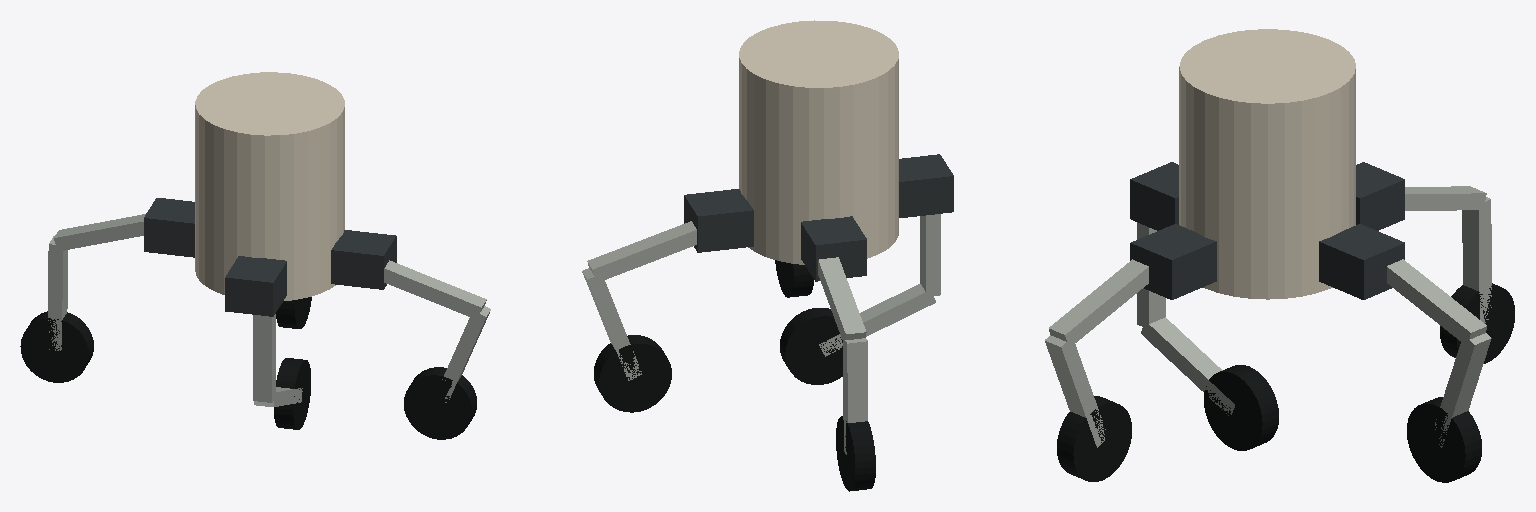
The robot description file, URDF, robot "mist_v2_engineering_candidate":
<?xml version='1.0' encoding='utf-8'?>
<robot name="mist_v2_engineering_candidate">
  <link name="base_link">
    <inertial>
      <origin xyz="0.003388389241 1.493361693e-06 0.03041384112" />
      <mass value="2.4492070836026665" />
      <inertia ixx="0.02125669905013628" iyy="0.019450610970687173" izz="0.017499715407569134" ixy="-3.087767463132525e-07" ixz="-0.0013028481915023627" iyz="2.742202012158825e-08" />
    </inertial>
    <visual>
      <origin xyz="0 0 0.075" rpy="0 0 0" />
      <geometry>
        <cylinder radius="0.09" length="0.22" />
      </geometry>
      <material name="base_link_material">
        <color rgba="0.83 0.8 0.73 1" />
      </material>
    </visual>
    <collision>
      <origin xyz="0 0 0.075" rpy="0 0 0" />
      <geometry>
        <cylinder radius="0.09" length="0.22" />
      </geometry>
    </collision>
  </link>
  <link name="FL_yaw">
    <inertial>
      <origin xyz="0.05037779371 -0.02909465782 0.003047798041" />
      <mass value="0.18856835128024615" />
      <inertia ixx="0.00017023544498280188" iyy="0.0002291867997440033" izz="0.00032701715050603735" ixy="0.00012541178122409732" ixz="2.3160330010817645e-05" iyz="-2.5777155508407435e-05" />
    </inertial>
    <visual>
      <origin xyz="0.0175 0.015 0" rpy="0 0 0" />
      <geometry>
        <box size="0.065 0.06 0.045" />
      </geometry>
      <material name="FL_yaw_material">
        <color rgba="0.25 0.27 0.28 1" />
      </material>
    </visual>
    <collision>
      <origin xyz="0.0175 0.015 0" rpy="0 0 0" />
      <geometry>
        <box size="0.065 0.06 0.045" />
      </geometry>
    </collision>
  </link>
  <joint name="FL_q1_yaw" type="revolute">
    <parent link="base_link" />
    <child link="FL_yaw" />
    <origin xyz="0.07283199846 0.07283199846 0" rpy="0 0 0.7853981634" />
    <axis xyz="0 0 1" />
    <limit lower="-1.7453292519943295" upper="1.0107470336924367" effort="20" velocity="20" />
    <dynamics damping="0" friction="0" />
  </joint>
  <link name="FL_femur">
    <inertial>
      <origin xyz="3.469446952e-17 0.02755742571 -0.04168769318" />
      <mass value="0.569793358910382" />
      <inertia ixx="0.0017104277044611873" iyy="0.001202420624449608" izz="0.0007070387454594916" ixy="1.3534319031886612e-20" ixz="2.309500200591432e-19" iyz="-1.3585098421913724e-05" />
    </inertial>
    <visual>
      <origin xyz="0 0 -0.06975" rpy="0 0 0" />
      <geometry>
        <box size="0.018 0.024 0.1395" />
      </geometry>
      <material name="FL_femur_material">
        <color rgba="0.68 0.7 0.67 1" />
      </material>
    </visual>
    <collision>
      <origin xyz="0 0 -0.06975" rpy="0 0 0" />
      <geometry>
        <box size="0.018 0.024 0.1395" />
      </geometry>
    </collision>
  </link>
  <joint name="FL_q2_hip" type="revolute">
    <parent link="FL_yaw" />
    <child link="FL_femur" />
    <origin xyz="0.035 0.03 0" rpy="0 0 0" />
    <axis xyz="0 -1 0" />
    <limit lower="0.3992500458411693" upper="2.181661564992912" effort="20" velocity="20" />
    <dynamics damping="0" friction="0" />
  </joint>
  <link name="FL_tibia">
    <inertial>
      <origin xyz="5.11871788e-10 0.01826851161 -0.06290189864" />
      <mass value="0.4960406883090802" />
      <inertia ixx="0.0012527973451017522" iyy="0.001093121767756599" izz="0.0002716584378050016" ixy="-1.961471203965535e-12" ixz="-4.709087884667719e-12" iyz="-5.045115996889297e-06" />
    </inertial>
    <visual>
      <origin xyz="0 0 -0.07" rpy="0 0 0" />
      <geometry>
        <box size="0.018 0.024 0.14" />
      </geometry>
      <material name="FL_tibia_material">
        <color rgba="0.68 0.7 0.67 1" />
      </material>
    </visual>
    <collision>
      <origin xyz="0 0 -0.07" rpy="0 0 0" />
      <geometry>
        <box size="0.018 0.024 0.14" />
      </geometry>
    </collision>
  </link>
  <joint name="FL_q3_knee" type="revolute">
    <parent link="FL_femur" />
    <child link="FL_tibia" />
    <origin xyz="0 0 -0.1395" rpy="0 0 0" />
    <axis xyz="0 -1 0" />
    <limit lower="-2.6179938779914944" upper="-0.656554653418662" effort="20" velocity="20" />
    <dynamics damping="0" friction="0" />
  </joint>
  <link name="FL_wheel">
    <inertial>
      <origin xyz="-3.752263715e-10 0.008234554553 2.471307574e-09" />
      <mass value="0.10731689053973788" />
      <inertia ixx="7.586045237460331e-05" iyy="9.10728819164123e-05" izz="7.586044613961116e-05" ixy="1.0194783467604003e-12" ixz="1.0128357823010377e-12" iyz="-6.710322416391488e-12" />
    </inertial>
    <visual>
      <origin xyz="0 0 0" rpy="1.570796327 0 0" />
      <geometry>
        <cylinder radius="0.0425" length="0.024" />
      </geometry>
      <material name="FL_wheel_material">
        <color rgba="0.12 0.13 0.13 1" />
      </material>
    </visual>
    <collision>
      <origin xyz="0 0 0" rpy="1.570796327 0 0" />
      <geometry>
        <cylinder radius="0.0425" length="0.024" />
      </geometry>
    </collision>
  </link>
  <joint name="FL_wheel_drive" type="continuous">
    <parent link="FL_tibia" />
    <child link="FL_wheel" />
    <origin xyz="0 0 -0.14" rpy="0 0 0" />
    <axis xyz="0 -1 0" />
    <dynamics damping="0" friction="0" />
  </joint>
  <link name="FR_yaw">
    <inertial>
      <origin xyz="0.05037779371 0.02909465782 0.003047798041" />
      <mass value="0.18856835128024615" />
      <inertia ixx="0.00017023544498280188" iyy="0.0002291867997440033" izz="0.00032701715050603735" ixy="-0.00012541178122409732" ixz="2.3160330010817645e-05" iyz="2.5777155508407435e-05" />
    </inertial>
    <visual>
      <origin xyz="0.0175 -0.015 0" rpy="0 0 0" />
      <geometry>
        <box size="0.065 0.06 0.045" />
      </geometry>
      <material name="FR_yaw_material">
        <color rgba="0.25 0.27 0.28 1" />
      </material>
    </visual>
    <collision>
      <origin xyz="0.0175 -0.015 0" rpy="0 0 0" />
      <geometry>
        <box size="0.065 0.06 0.045" />
      </geometry>
    </collision>
  </link>
  <joint name="FR_q1_yaw" type="revolute">
    <parent link="base_link" />
    <child link="FR_yaw" />
    <origin xyz="0.07283199846 -0.07283199846 0" rpy="0 0 -0.7853981634" />
    <axis xyz="0 0 1" />
    <limit lower="-0.7670117428405065" upper="1.7453292519943295" effort="20" velocity="20" />
    <dynamics damping="0" friction="0" />
  </joint>
  <link name="FR_femur">
    <inertial>
      <origin xyz="3.469446952e-17 -0.02755742571 -0.04168769318" />
      <mass value="0.569793358910382" />
      <inertia ixx="0.0017104277044611873" iyy="0.001202420624449608" izz="0.0007070387454594916" ixy="-1.3534319031886612e-20" ixz="2.309500200591432e-19" iyz="1.3585098421913724e-05" />
    </inertial>
    <visual>
      <origin xyz="0 0 -0.06975" rpy="0 0 0" />
      <geometry>
        <box size="0.018 0.024 0.1395" />
      </geometry>
      <material name="FR_femur_material">
        <color rgba="0.68 0.7 0.67 1" />
      </material>
    </visual>
    <collision>
      <origin xyz="0 0 -0.06975" rpy="0 0 0" />
      <geometry>
        <box size="0.018 0.024 0.1395" />
      </geometry>
    </collision>
  </link>
  <joint name="FR_q2_hip" type="revolute">
    <parent link="FR_yaw" />
    <child link="FR_femur" />
    <origin xyz="0.035 -0.03 0" rpy="0 0 0" />
    <axis xyz="0 -1 0" />
    <limit lower="0.36095190792944737" upper="2.181661564992912" effort="20" velocity="20" />
    <dynamics damping="0" friction="0" />
  </joint>
  <link name="FR_tibia">
    <inertial>
      <origin xyz="5.11871788e-10 -0.01826851161 -0.06290189864" />
      <mass value="0.4960406883090802" />
      <inertia ixx="0.0012527973451017522" iyy="0.001093121767756599" izz="0.0002716584378050016" ixy="1.961471203965535e-12" ixz="-4.709087884667719e-12" iyz="5.045115996889297e-06" />
    </inertial>
    <visual>
      <origin xyz="0 0 -0.07" rpy="0 0 0" />
      <geometry>
        <box size="0.018 0.024 0.14" />
      </geometry>
      <material name="FR_tibia_material">
        <color rgba="0.68 0.7 0.67 1" />
      </material>
    </visual>
    <collision>
      <origin xyz="0 0 -0.07" rpy="0 0 0" />
      <geometry>
        <box size="0.018 0.024 0.14" />
      </geometry>
    </collision>
  </link>
  <joint name="FR_q3_knee" type="revolute">
    <parent link="FR_femur" />
    <child link="FR_tibia" />
    <origin xyz="0 0 -0.1395" rpy="0 0 0" />
    <axis xyz="0 -1 0" />
    <limit lower="-2.6179938779914944" upper="-0.6817232474845311" effort="20" velocity="20" />
    <dynamics damping="0" friction="0" />
  </joint>
  <link name="FR_wheel">
    <inertial>
      <origin xyz="-3.752263715e-10 -0.008234554553 2.471307574e-09" />
      <mass value="0.10731689053973788" />
      <inertia ixx="7.586045237460331e-05" iyy="9.10728819164123e-05" izz="7.586044613961116e-05" ixy="-1.0194783467604003e-12" ixz="1.0128357823010377e-12" iyz="6.710322416391488e-12" />
    </inertial>
    <visual>
      <origin xyz="0 0 0" rpy="1.570796327 0 0" />
      <geometry>
        <cylinder radius="0.0425" length="0.024" />
      </geometry>
      <material name="FR_wheel_material">
        <color rgba="0.12 0.13 0.13 1" />
      </material>
    </visual>
    <collision>
      <origin xyz="0 0 0" rpy="1.570796327 0 0" />
      <geometry>
        <cylinder radius="0.0425" length="0.024" />
      </geometry>
    </collision>
  </link>
  <joint name="FR_wheel_drive" type="continuous">
    <parent link="FR_tibia" />
    <child link="FR_wheel" />
    <origin xyz="0 0 -0.14" rpy="0 0 0" />
    <axis xyz="0 -1 0" />
    <dynamics damping="0" friction="0" />
  </joint>
  <link name="RL_yaw">
    <inertial>
      <origin xyz="0.05037779371 0.02909465782 0.003047798041" />
      <mass value="0.18856835128024615" />
      <inertia ixx="0.00017023544498280188" iyy="0.0002291867997440033" izz="0.00032701715050603735" ixy="-0.00012541178122409732" ixz="2.3160330010817645e-05" iyz="2.5777155508407435e-05" />
    </inertial>
    <visual>
      <origin xyz="0.0175 -0.015 0" rpy="0 0 0" />
      <geometry>
        <box size="0.065 0.06 0.045" />
      </geometry>
      <material name="RL_yaw_material">
        <color rgba="0.25 0.27 0.28 1" />
      </material>
    </visual>
    <collision>
      <origin xyz="0.0175 -0.015 0" rpy="0 0 0" />
      <geometry>
        <box size="0.065 0.06 0.045" />
      </geometry>
    </collision>
  </link>
  <joint name="RL_q1_yaw" type="revolute">
    <parent link="base_link" />
    <child link="RL_yaw" />
    <origin xyz="-0.07283199846 0.07283199846 0" rpy="0 0 2.35619449" />
    <axis xyz="0 0 1" />
    <limit lower="-1.0145255701012619" upper="1.7453292519943295" effort="20" velocity="20" />
    <dynamics damping="0" friction="0" />
  </joint>
  <link name="RL_femur">
    <inertial>
      <origin xyz="3.469446952e-17 -0.02755742571 -0.04168769318" />
      <mass value="0.569793358910382" />
      <inertia ixx="0.0017104277044611873" iyy="0.001202420624449608" izz="0.0007070387454594916" ixy="-1.3534319031886612e-20" ixz="2.309500200591432e-19" iyz="1.3585098421913724e-05" />
    </inertial>
    <visual>
      <origin xyz="0 0 -0.06975" rpy="0 0 0" />
      <geometry>
        <box size="0.018 0.024 0.1395" />
      </geometry>
      <material name="RL_femur_material">
        <color rgba="0.68 0.7 0.67 1" />
      </material>
    </visual>
    <collision>
      <origin xyz="0 0 -0.06975" rpy="0 0 0" />
      <geometry>
        <box size="0.018 0.024 0.1395" />
      </geometry>
    </collision>
  </link>
  <joint name="RL_q2_hip" type="revolute">
    <parent link="RL_yaw" />
    <child link="RL_femur" />
    <origin xyz="0.035 -0.03 0" rpy="0 0 0" />
    <axis xyz="0 -1 0" />
    <limit lower="0.3411319553132102" upper="2.181661564992912" effort="20" velocity="20" />
    <dynamics damping="0" friction="0" />
  </joint>
  <link name="RL_tibia">
    <inertial>
      <origin xyz="5.11871788e-10 -0.01826851161 -0.06290189864" />
      <mass value="0.4960406883090802" />
      <inertia ixx="0.0012527973451017522" iyy="0.001093121767756599" izz="0.0002716584378050016" ixy="1.961471203965535e-12" ixz="-4.709087884667719e-12" iyz="5.045115996889297e-06" />
    </inertial>
    <visual>
      <origin xyz="0 0 -0.07" rpy="0 0 0" />
      <geometry>
        <box size="0.018 0.024 0.14" />
      </geometry>
      <material name="RL_tibia_material">
        <color rgba="0.68 0.7 0.67 1" />
      </material>
    </visual>
    <collision>
      <origin xyz="0 0 -0.07" rpy="0 0 0" />
      <geometry>
        <box size="0.018 0.024 0.14" />
      </geometry>
    </collision>
  </link>
  <joint name="RL_q3_knee" type="revolute">
    <parent link="RL_femur" />
    <child link="RL_tibia" />
    <origin xyz="0 0 -0.1395" rpy="0 0 0" />
    <axis xyz="0 -1 0" />
    <limit lower="-2.2414459983195933" upper="-0.2617993877991494" effort="20" velocity="20" />
    <dynamics damping="0" friction="0" />
  </joint>
  <link name="RL_wheel">
    <inertial>
      <origin xyz="-3.752263715e-10 -0.008234554553 2.471307574e-09" />
      <mass value="0.10731689053973788" />
      <inertia ixx="7.586045237460331e-05" iyy="9.10728819164123e-05" izz="7.586044613961116e-05" ixy="-1.0194783467604003e-12" ixz="1.0128357823010377e-12" iyz="6.710322416391488e-12" />
    </inertial>
    <visual>
      <origin xyz="0 0 0" rpy="1.570796327 0 0" />
      <geometry>
        <cylinder radius="0.0425" length="0.024" />
      </geometry>
      <material name="RL_wheel_material">
        <color rgba="0.12 0.13 0.13 1" />
      </material>
    </visual>
    <collision>
      <origin xyz="0 0 0" rpy="1.570796327 0 0" />
      <geometry>
        <cylinder radius="0.0425" length="0.024" />
      </geometry>
    </collision>
  </link>
  <joint name="RL_wheel_drive" type="continuous">
    <parent link="RL_tibia" />
    <child link="RL_wheel" />
    <origin xyz="0 0 -0.14" rpy="0 0 0" />
    <axis xyz="0 -1 0" />
    <dynamics damping="0" friction="0" />
  </joint>
  <link name="RR_yaw">
    <inertial>
      <origin xyz="0.05037779371 -0.02909465782 0.003047798041" />
      <mass value="0.18856835128024615" />
      <inertia ixx="0.00017023544498280188" iyy="0.0002291867997440033" izz="0.00032701715050603735" ixy="0.00012541178122409732" ixz="2.3160330010817645e-05" iyz="-2.5777155508407435e-05" />
    </inertial>
    <visual>
      <origin xyz="0.0175 0.015 0" rpy="0 0 0" />
      <geometry>
        <box size="0.065 0.06 0.045" />
      </geometry>
      <material name="RR_yaw_material">
        <color rgba="0.25 0.27 0.28 1" />
      </material>
    </visual>
    <collision>
      <origin xyz="0.0175 0.015 0" rpy="0 0 0" />
      <geometry>
        <box size="0.065 0.06 0.045" />
      </geometry>
    </collision>
  </link>
  <joint name="RR_q1_yaw" type="revolute">
    <parent link="base_link" />
    <child link="RR_yaw" />
    <origin xyz="-0.07283199846 -0.07283199846 0" rpy="0 0 -2.35619449" />
    <axis xyz="0 0 1" />
    <limit lower="-1.7453292519943295" upper="0.9021268841150633" effort="20" velocity="20" />
    <dynamics damping="0" friction="0" />
  </joint>
  <link name="RR_femur">
    <inertial>
      <origin xyz="3.469446952e-17 0.02755742571 -0.04168769318" />
      <mass value="0.569793358910382" />
      <inertia ixx="0.0017104277044611873" iyy="0.001202420624449608" izz="0.0007070387454594916" ixy="1.3534319031886612e-20" ixz="2.309500200591432e-19" iyz="-1.3585098421913724e-05" />
    </inertial>
    <visual>
      <origin xyz="0 0 -0.06975" rpy="0 0 0" />
      <geometry>
        <box size="0.018 0.024 0.1395" />
      </geometry>
      <material name="RR_femur_material">
        <color rgba="0.68 0.7 0.67 1" />
      </material>
    </visual>
    <collision>
      <origin xyz="0 0 -0.06975" rpy="0 0 0" />
      <geometry>
        <box size="0.018 0.024 0.1395" />
      </geometry>
    </collision>
  </link>
  <joint name="RR_q2_hip" type="revolute">
    <parent link="RR_yaw" />
    <child link="RR_femur" />
    <origin xyz="0.035 0.03 0" rpy="0 0 0" />
    <axis xyz="0 -1 0" />
    <limit lower="-0.026203156021706527" upper="2.0100143046383447" effort="20" velocity="20" />
    <dynamics damping="0" friction="0" />
  </joint>
  <link name="RR_tibia">
    <inertial>
      <origin xyz="5.11871788e-10 0.01826851161 -0.06290189864" />
      <mass value="0.4960406883090802" />
      <inertia ixx="0.0012527973451017522" iyy="0.001093121767756599" izz="0.0002716584378050016" ixy="-1.961471203965535e-12" ixz="-4.709087884667719e-12" iyz="-5.045115996889297e-06" />
    </inertial>
    <visual>
      <origin xyz="0 0 -0.07" rpy="0 0 0" />
      <geometry>
        <box size="0.018 0.024 0.14" />
      </geometry>
      <material name="RR_tibia_material">
        <color rgba="0.68 0.7 0.67 1" />
      </material>
    </visual>
    <collision>
      <origin xyz="0 0 -0.07" rpy="0 0 0" />
      <geometry>
        <box size="0.018 0.024 0.14" />
      </geometry>
    </collision>
  </link>
  <joint name="RR_q3_knee" type="revolute">
    <parent link="RR_femur" />
    <child link="RR_tibia" />
    <origin xyz="0 0 -0.1395" rpy="0 0 0" />
    <axis xyz="0 -1 0" />
    <limit lower="-2.1197881719343705" upper="-0.2617993877991494" effort="20" velocity="20" />
    <dynamics damping="0" friction="0" />
  </joint>
  <link name="RR_wheel">
    <inertial>
      <origin xyz="-3.752263715e-10 0.008234554553 2.471307574e-09" />
      <mass value="0.10731689053973788" />
      <inertia ixx="7.586045237460331e-05" iyy="9.10728819164123e-05" izz="7.586044613961116e-05" ixy="1.0194783467604003e-12" ixz="1.0128357823010377e-12" iyz="-6.710322416391488e-12" />
    </inertial>
    <visual>
      <origin xyz="0 0 0" rpy="1.570796327 0 0" />
      <geometry>
        <cylinder radius="0.0425" length="0.024" />
      </geometry>
      <material name="RR_wheel_material">
        <color rgba="0.12 0.13 0.13 1" />
      </material>
    </visual>
    <collision>
      <origin xyz="0 0 0" rpy="1.570796327 0 0" />
      <geometry>
        <cylinder radius="0.0425" length="0.024" />
      </geometry>
    </collision>
  </link>
  <joint name="RR_wheel_drive" type="continuous">
    <parent link="RR_tibia" />
    <child link="RR_wheel" />
    <origin xyz="0 0 -0.14" rpy="0 0 0" />
    <axis xyz="0 -1 0" />
    <dynamics damping="0" friction="0" />
  </joint>
</robot>

--- Facts derived from the render (not from the file) ---
The picture shows the robot from 3 angles, left to right: view 1: azimuth 30°, elevation 25°; view 2: azimuth 150°, elevation 25°; view 3: azimuth 270°, elevation 25°; orthographic projection.
Model mist_v2_engineering_candidate with 17 links and 16 joints (12 revolute, 4 continuous), rooted at base_link, posed all joints at 0 but 7 set to mid-range because 0 is outside their limits (FL_q2_hip = 1.29, FL_q3_knee = -1.64, FR_q2_hip = 1.27, FR_q3_knee = -1.65, RL_q2_hip = 1.26, RL_q3_knee = -1.25, +1 more).
Links seen in each view (by area): view 1: base_link, FR_wheel, RL_wheel, RR_yaw, FR_yaw, RL_yaw, FR_femur, RR_femur, RL_femur, RR_wheel, RL_tibia, FR_tibia (+2 smaller); view 2: base_link, FL_wheel, RR_wheel, FL_yaw, RL_yaw, RR_yaw, FL_femur, RL_wheel, RL_femur, RL_tibia, RR_tibia, RR_femur (+2 smaller); view 3: base_link, RR_wheel, FR_yaw, FL_yaw, FL_wheel, FR_wheel, FL_femur, FR_femur, RL_yaw, RR_yaw, RR_tibia, RL_tibia (+5 smaller).
Link boxes in pixels (x1,y1,x2,y2): base_link: [195, 72, 344, 300]; FR_wheel: [404, 367, 476, 439]; RL_wheel: [20, 311, 93, 382]; RR_yaw: [225, 256, 286, 316]; FR_yaw: [331, 230, 396, 289]; RL_yaw: [144, 198, 194, 257]; FR_femur: [384, 260, 486, 316]; RR_femur: [253, 314, 275, 402]; RL_femur: [54, 214, 145, 251]; RR_wheel: [274, 358, 310, 429]; RL_tibia: [48, 236, 67, 350]; FR_tibia: [442, 306, 490, 402]; base_link: [739, 20, 898, 264]; FL_wheel: [594, 335, 671, 412]; RR_wheel: [780, 308, 842, 384]; FL_yaw: [684, 189, 753, 252]; RL_yaw: [801, 216, 866, 281]; RR_yaw: [899, 154, 953, 217]; FL_femur: [587, 221, 696, 282]; RL_wheel: [836, 416, 875, 491]; RL_femur: [818, 257, 866, 345]; RL_tibia: [843, 338, 867, 454]; RR_tibia: [819, 284, 935, 356]; RR_femur: [920, 214, 940, 296]; base_link: [1179, 29, 1355, 299]; RR_wheel: [1204, 365, 1278, 450]; FR_yaw: [1130, 224, 1216, 299]; FL_yaw: [1319, 224, 1404, 299]; FL_wheel: [1407, 397, 1481, 482]; FR_wheel: [1057, 396, 1131, 481]; FL_femur: [1387, 259, 1486, 346]; FR_femur: [1049, 259, 1148, 342]; RL_yaw: [1356, 162, 1404, 230]; RR_yaw: [1130, 162, 1178, 230]; RR_tibia: [1141, 317, 1234, 415]; RL_tibia: [1462, 197, 1491, 323].
Size in the robot's own frame: 0.3955 by 0.4797 by 0.4189 metres.
Geometry: primitives only (box / cylinder / sphere), no mesh files.
